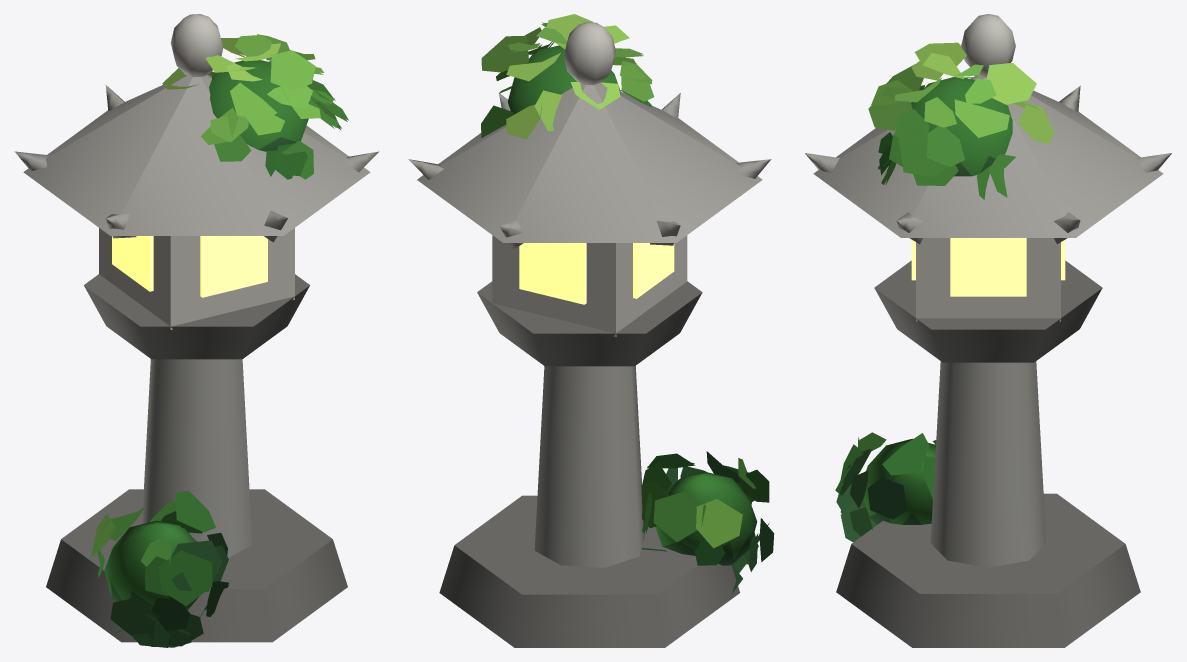
The model's file is StoneLantern.glb.
3 renders of one model, left to right at view 1: azimuth 30°, elevation 25°; view 2: azimuth 150°, elevation 25°; view 3: azimuth 270°, elevation 25°, orthographic.
Parts seen in each view (by area): view 1: Body, Lamp; view 2: Body, Lamp; view 3: Body, Lamp.
Boxes of the visible parts, x1,y1,x2,y2 form: Body: (14,14,379,647); Lamp: (112,236,267,297); Body: (408,14,774,647); Lamp: (519,243,674,304); Body: (805,14,1171,647); Lamp: (911,238,1065,296).
Bounding box in the file's own units: 2.09 × 4.23 × 2.42.
Materials: 2 (1 with a texture image).
